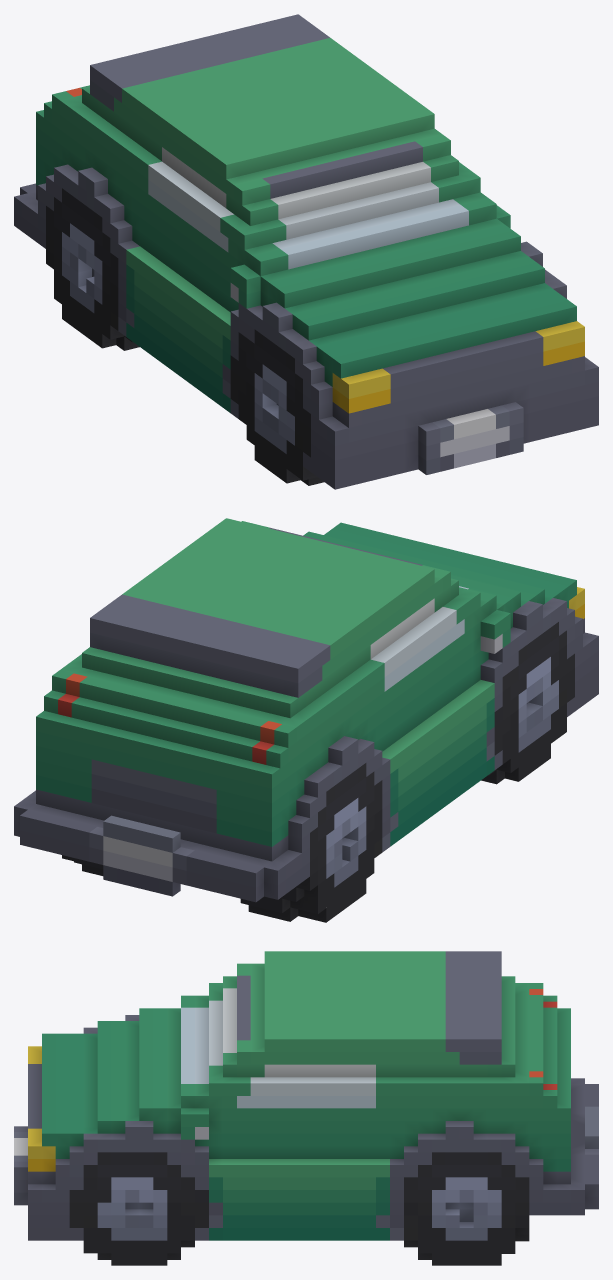
File: hatchback_sports.glb
3 renders of one model, top to bottom at view 1: azimuth 30°, elevation 25°; view 2: azimuth 150°, elevation 25°; view 3: azimuth 270°, elevation 25°, orthographic. The views are drawn at different scales.
Visible parts, largest first — view 1: voxels; view 2: voxels; view 3: voxels.
Boxes of the visible parts, bbox=[...] form: voxels: bbox=[14, 14, 598, 489]; voxels: bbox=[14, 518, 598, 922]; voxels: bbox=[14, 951, 598, 1265].
Bounding box in the file's own units: 1.31 × 1.17 × 2.89.
